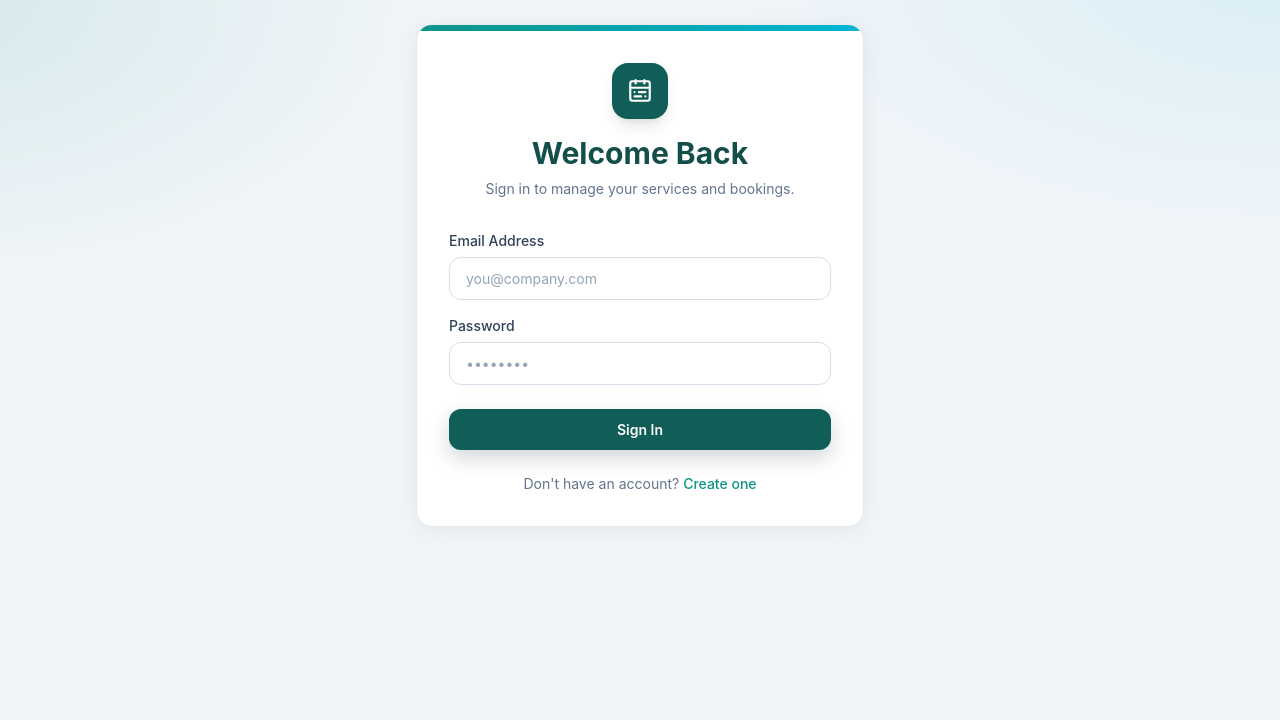
it: Login Page › shows error on failed login
Type "a@a.com" into the field labelled "Email Address" at (640, 278), box [449,257,831,300]
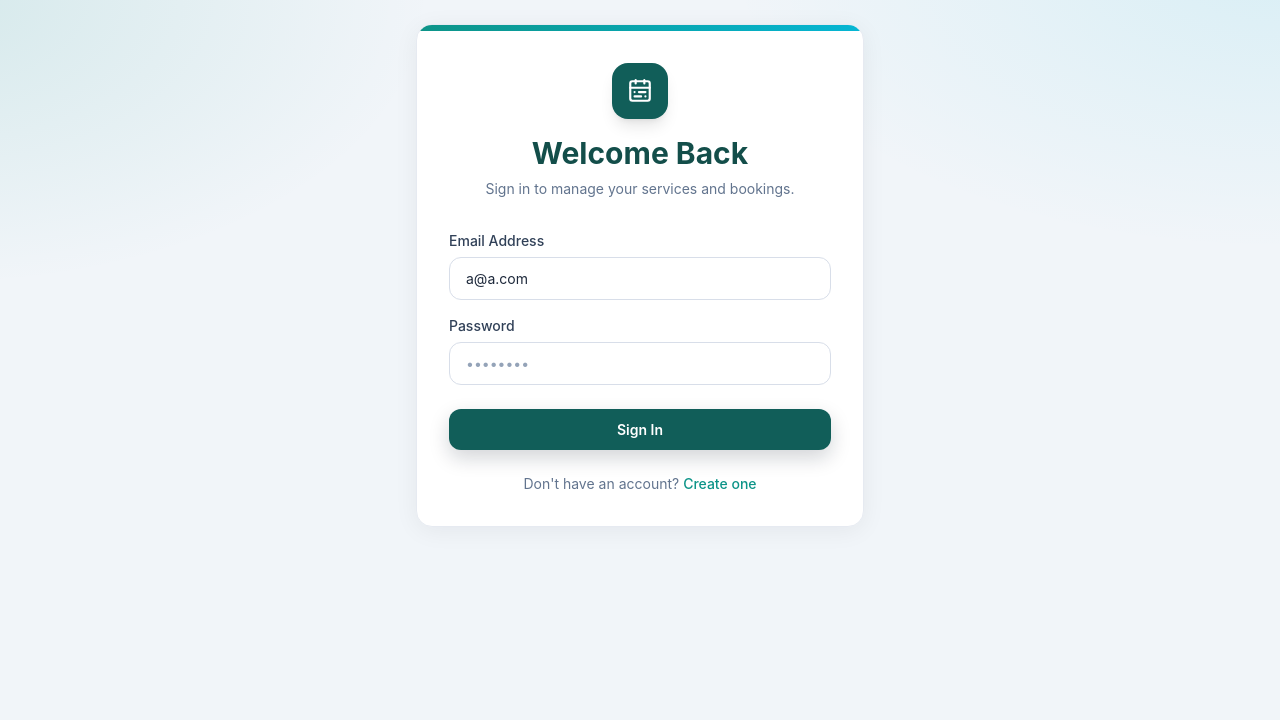
Type "wrong" into the password field labelled "Password" at (640, 364), box [449,342,831,385]
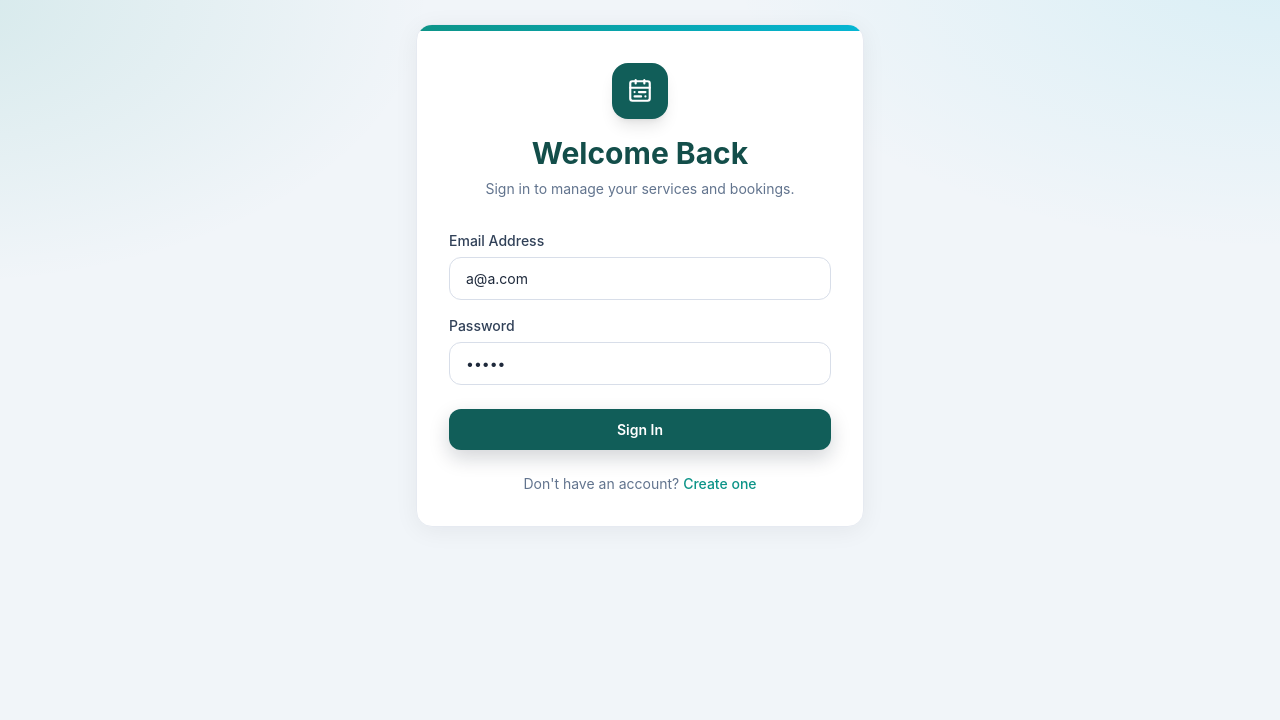
Click the button "Sign In" at (640, 430), box [449,409,831,450]
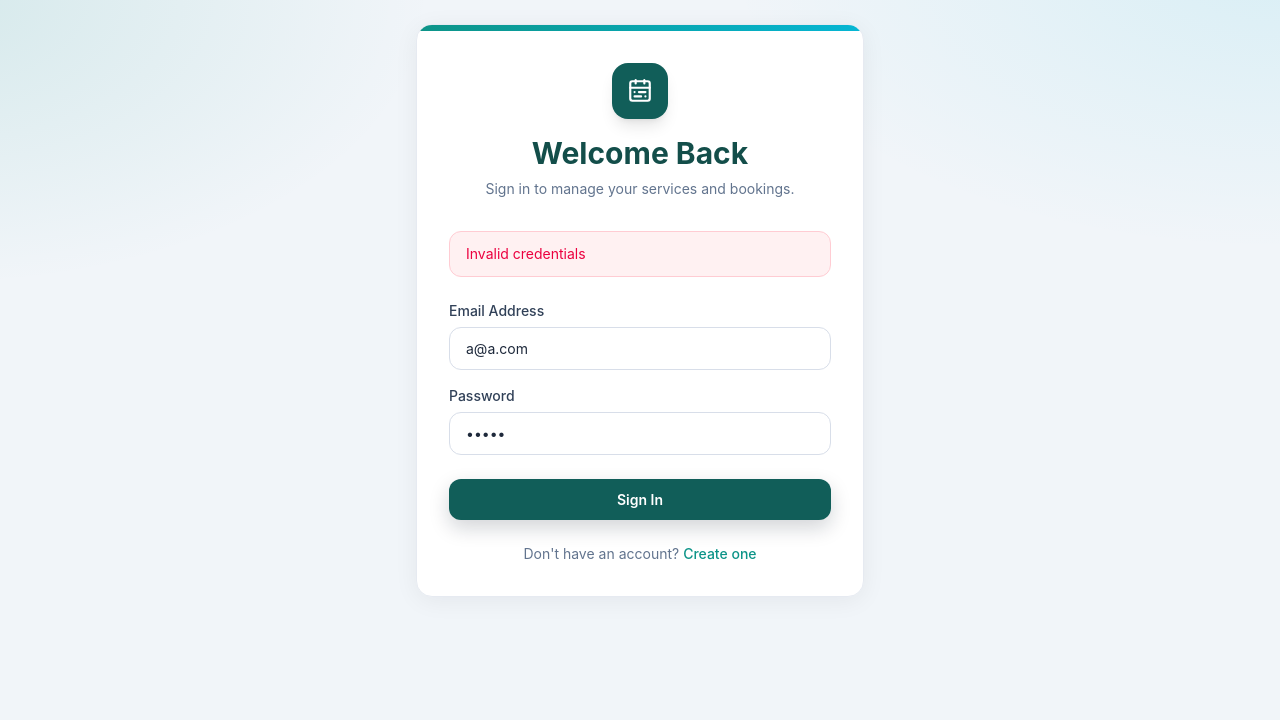
Expected: the text "Invalid credentials" is shown, [449,231,831,277]
